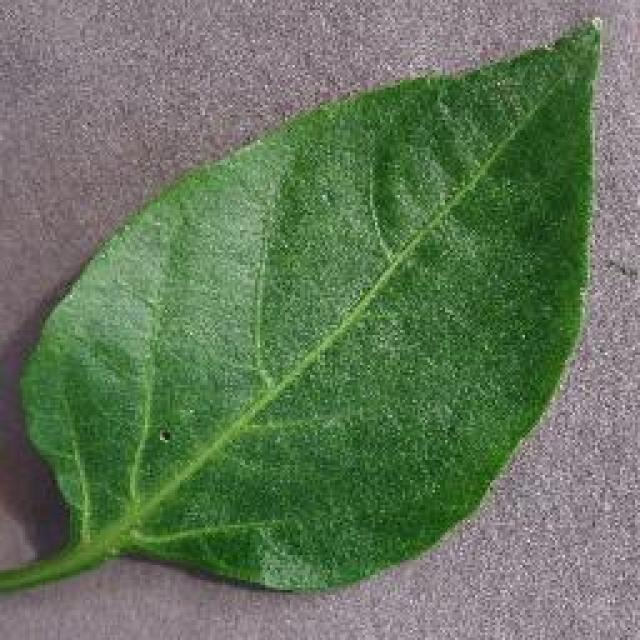Leaf: (256, 159, 513, 416), (154, 202, 216, 327)
